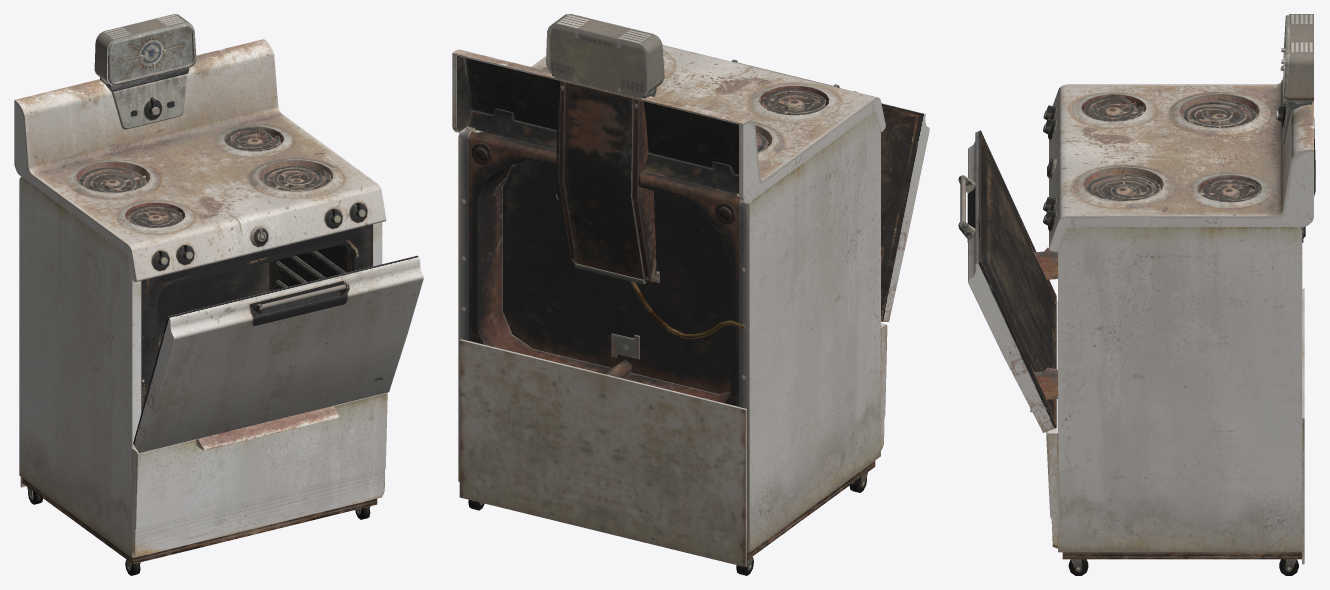
Rendered from stove01a.obj.
3 views of the same model, side by side, from view 1: azimuth 30°, elevation 25°; view 2: azimuth 150°, elevation 25°; view 3: azimuth 270°, elevation 25° (orthographic). The views are drawn at different scales.
Parts seen in each view (by area): view 1: LODGroup_1_MainMesh_1_Submesh_2, LODGroup_1_MainMesh_2_Submesh_2; view 2: LODGroup_1_MainMesh_1_Submesh_2, LODGroup_1_MainMesh_2_Submesh_2; view 3: LODGroup_1_MainMesh_1_Submesh_2, LODGroup_1_MainMesh_2_Submesh_2.
Boxes of the visible parts, x1,y1,x2,y2 form: LODGroup_1_MainMesh_1_Submesh_2: (14,14,387,575); LODGroup_1_MainMesh_2_Submesh_2: (133,255,423,452); LODGroup_1_MainMesh_1_Submesh_2: (452,14,887,575); LODGroup_1_MainMesh_2_Submesh_2: (731,59,929,321); LODGroup_1_MainMesh_1_Submesh_2: (1030,14,1315,575); LODGroup_1_MainMesh_2_Submesh_2: (958,130,1057,432).
Bounding box in the file's own units: 76.66 × 130 × 87.65.
1 material, 1 textured.
